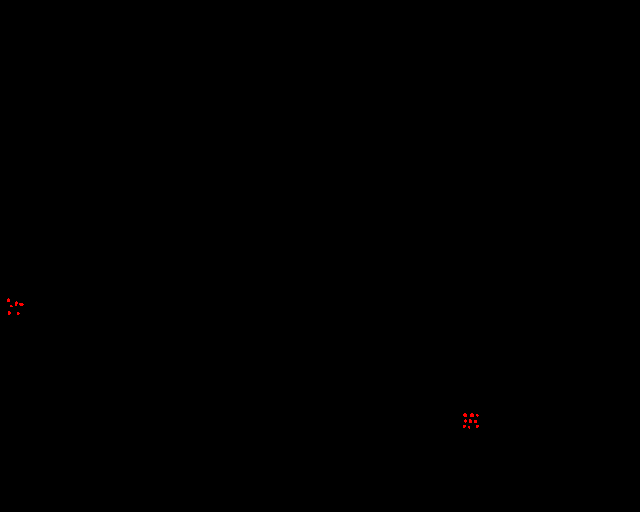Target: (463, 413, 467, 417), (470, 413, 474, 417), (15, 301, 18, 306), (19, 303, 24, 306), (7, 298, 10, 302), (8, 311, 11, 315), (464, 419, 467, 423), (469, 419, 472, 423), (17, 312, 20, 315), (476, 414, 479, 417), (474, 420, 477, 423), (463, 425, 466, 428), (476, 425, 479, 428), (10, 305, 13, 307), (468, 426, 470, 429)
